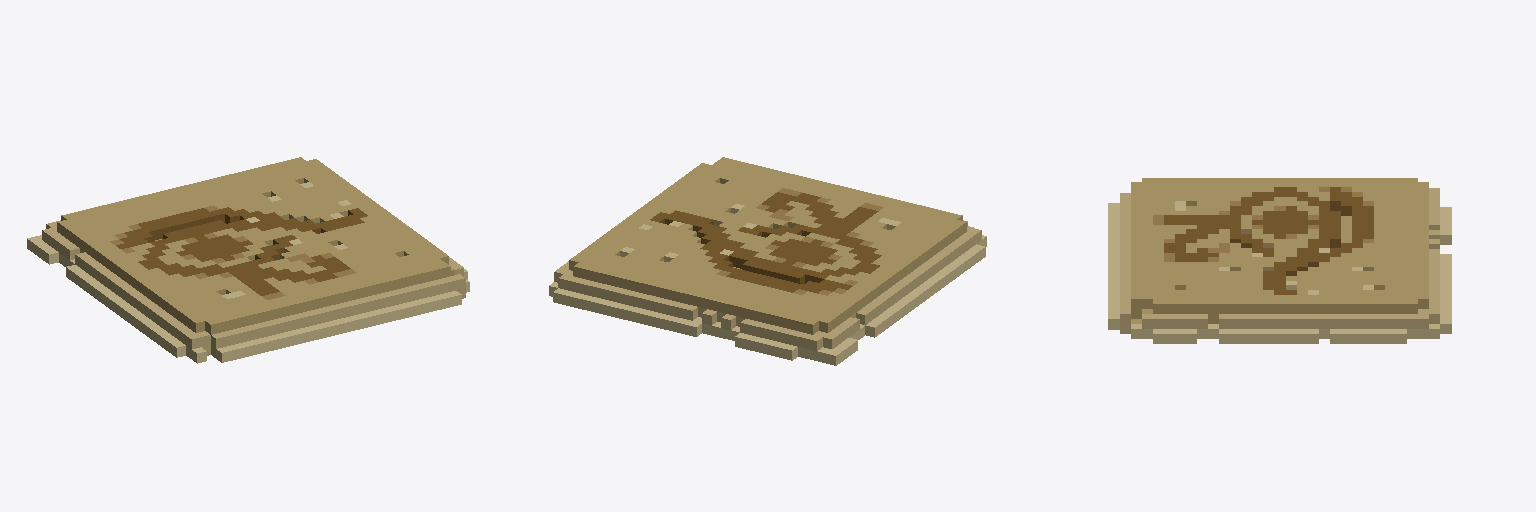
3 renders of one model, left to right at view 1: azimuth 30°, elevation 25°; view 2: azimuth 150°, elevation 25°; view 3: azimuth 270°, elevation 25°, orthographic.
Parts seen in each view (by area): view 1: object 1; view 2: object 1; view 3: object 1.
Part boxes in pixels (x1,y1,x2,y2): object 1: (27, 157, 469, 363); object 1: (549, 157, 986, 365); object 1: (1108, 178, 1451, 343).
Size of the model in its own units: 3.1 by 0.3 by 3.1.
Materials: 1 (1 with a texture image).